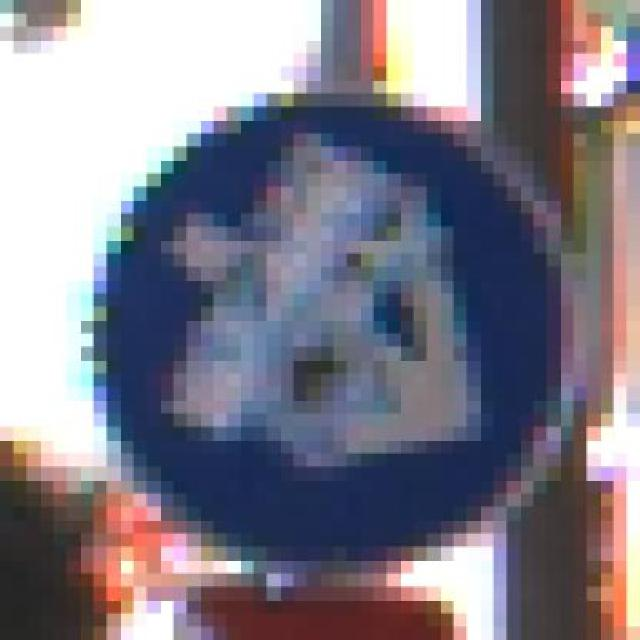Keep-Right: (67, 93, 587, 601)
